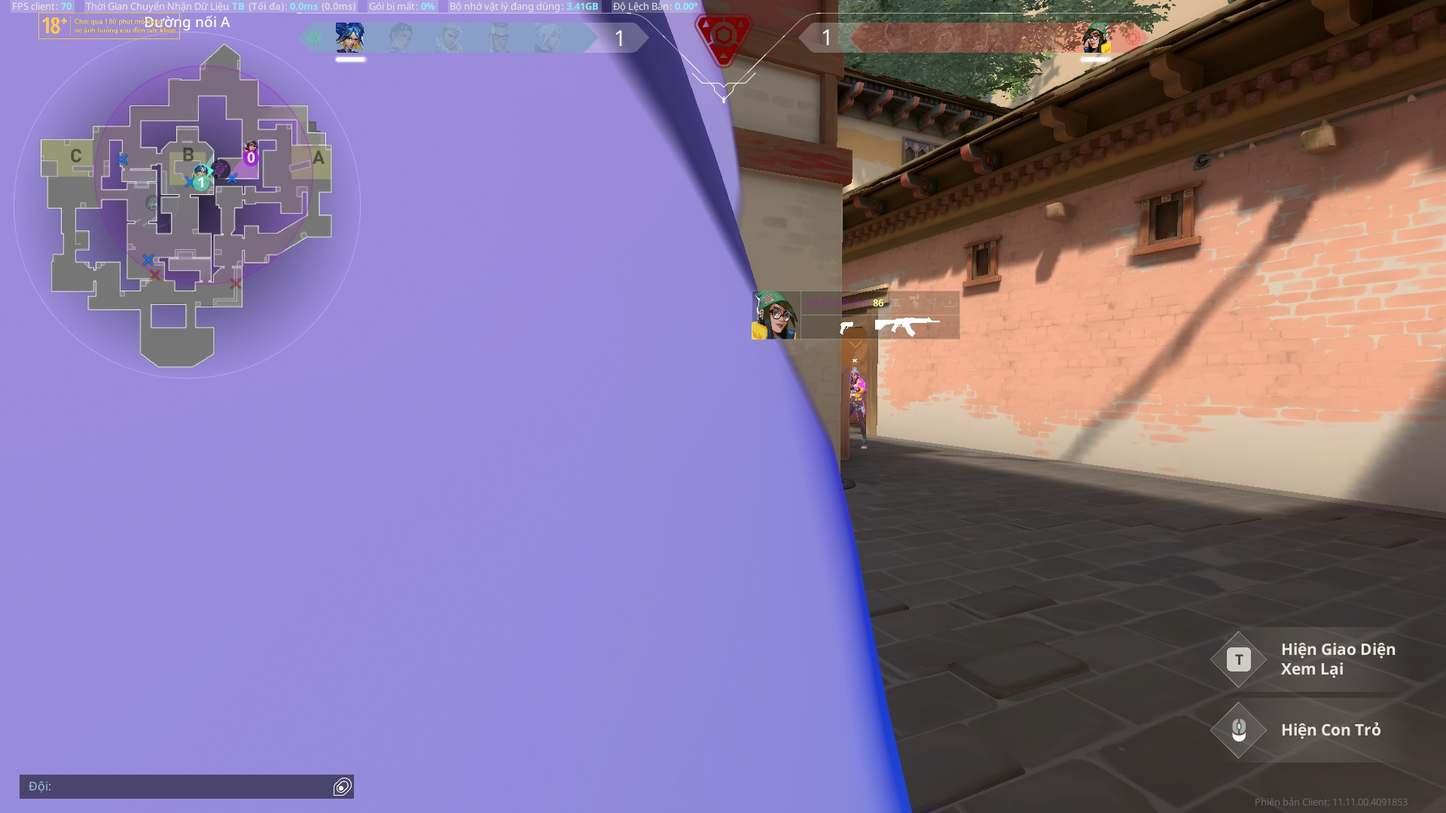body: (850, 376, 865, 399)
head: (850, 370, 859, 379)
